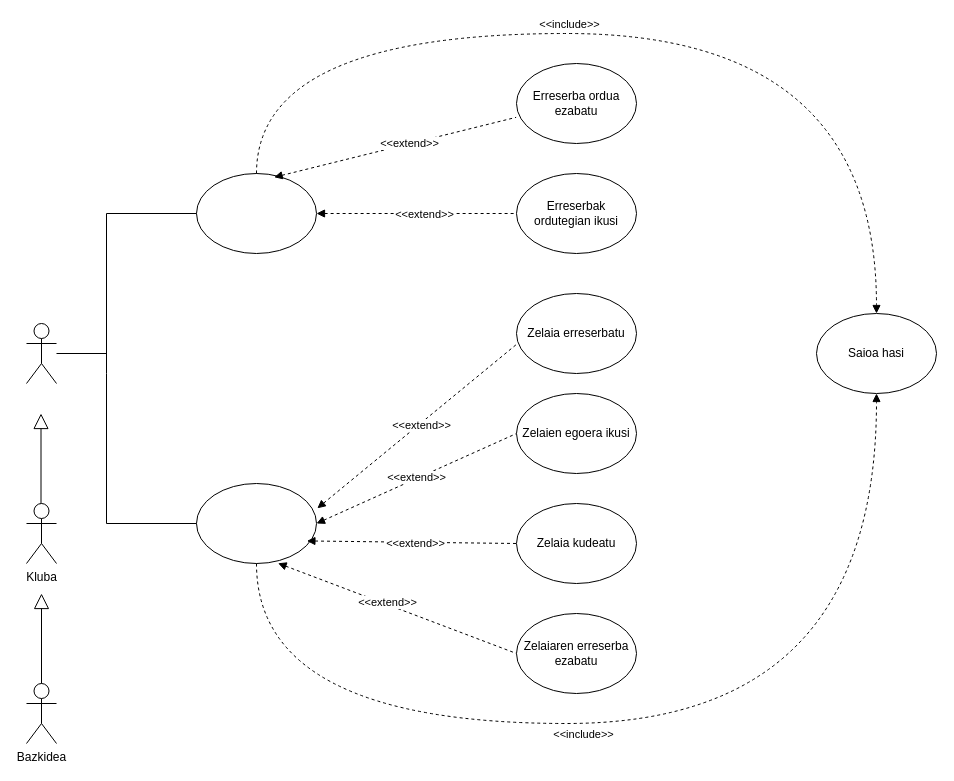
The diagram is 954 pixels wide and 781 high, and some of its shapes have lost their labels. The centre of each missing label's shape, as x and y in pixels:
"Bezeroa" belongs at pixel 41 353.
"Ordutegia ikusi" belongs at pixel 256 213.
"Zelaiak ikusi" belongs at pixel 256 523.
